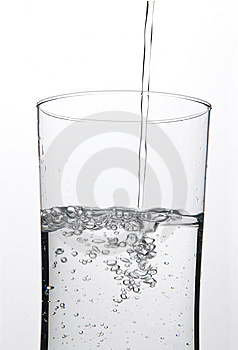glass of water: (78, 157, 178, 340)
